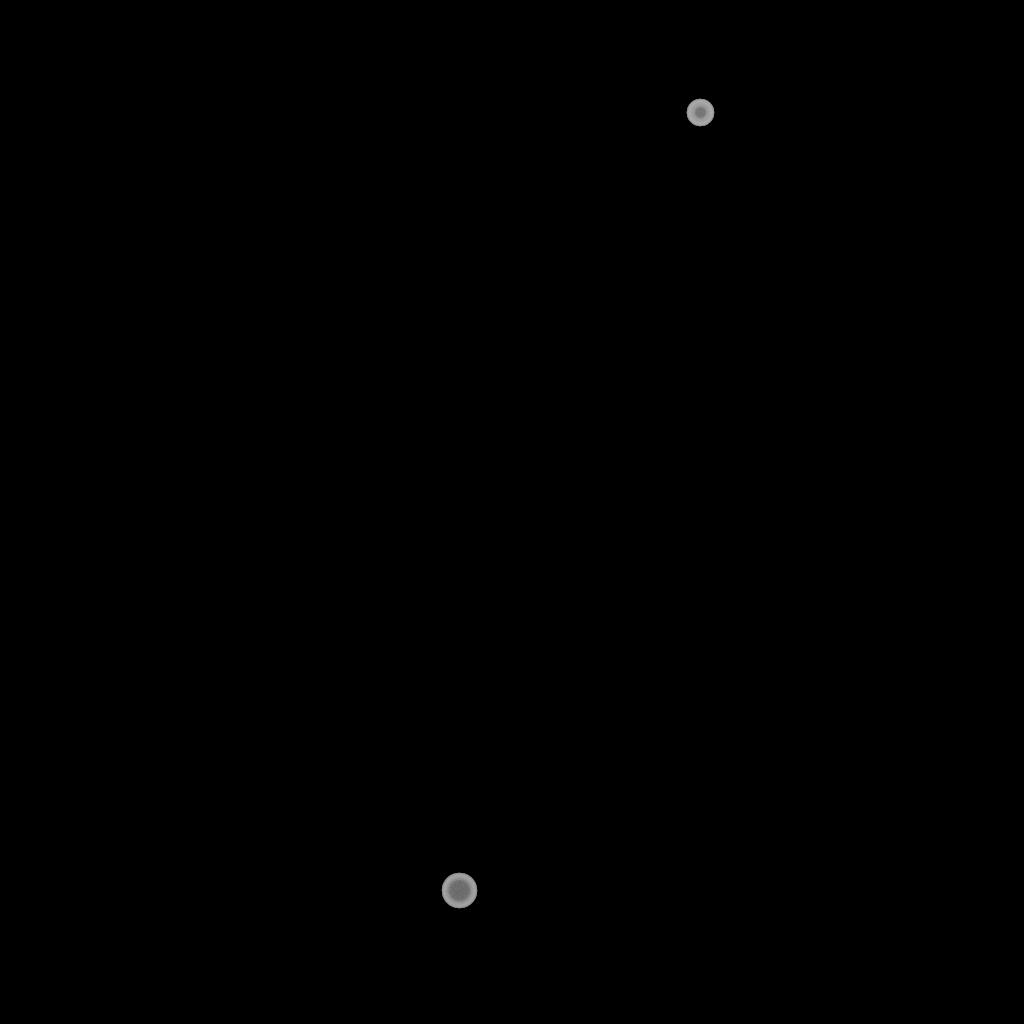depth:-50: (686, 99, 714, 127)
depth:-60: (441, 873, 477, 909)
